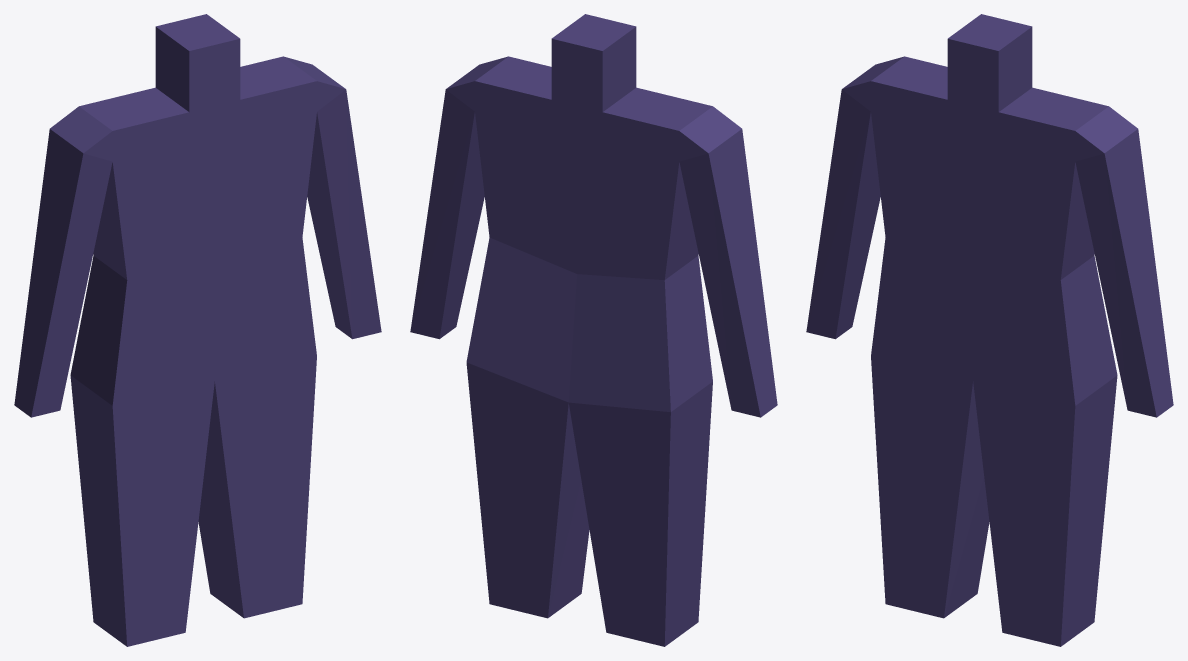
File: person.gltf
3 views of the same model, side by side, from view 1: azimuth 30°, elevation 25°; view 2: azimuth 150°, elevation 25°; view 3: azimuth 330°, elevation 25° (orthographic).
Size of the model in its own units: 3 by 4.75 by 0.625.
1 material, 1 textured.
